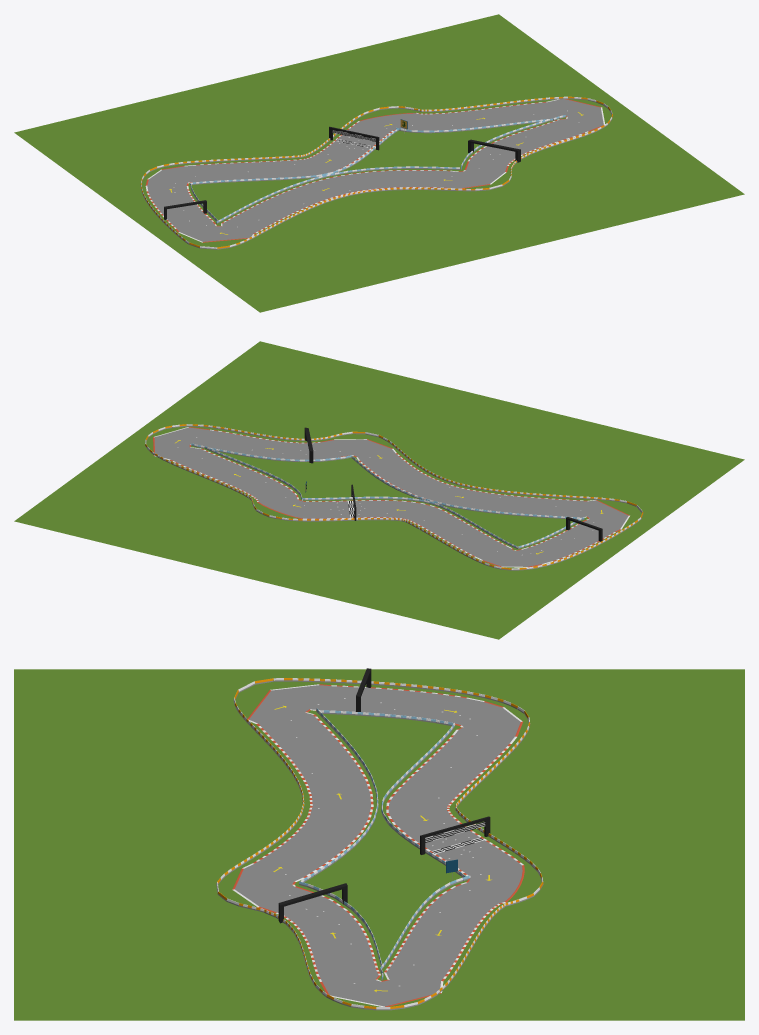
Rendered from basic-track3.glb.
3 renders of one model, top to bottom at view 1: azimuth 30°, elevation 25°; view 2: azimuth 150°, elevation 25°; view 3: azimuth 270°, elevation 25°, orthographic. The views are drawn at different scales.
Parts seen in each view (by area): view 1: ground, road, outer-fence, inner-fence; view 2: ground, road, outer-fence, inner-fence; view 3: ground, road, outer-fence, inner-fence, goal, checkpoint1.
Part boxes in pixels (box(x1,y1,x2,y2)): ground: box(14, 14, 744, 312); road: box(145, 99, 604, 242); outer-fence: box(140, 96, 612, 249); inner-fence: box(190, 115, 565, 223); ground: box(14, 341, 744, 639); road: box(153, 427, 629, 567); outer-fence: box(145, 424, 643, 570); inner-fence: box(191, 443, 584, 548); ground: box(14, 669, 744, 1020); road: box(232, 684, 524, 1006); outer-fence: box(216, 678, 543, 1010); inner-fence: box(299, 708, 470, 980); goal: box(420, 816, 490, 854); checkpoint1: box(278, 883, 347, 923).
Size of the model in its own units: 1055 by 37.28 by 927.
2 materials, 2 textured.
